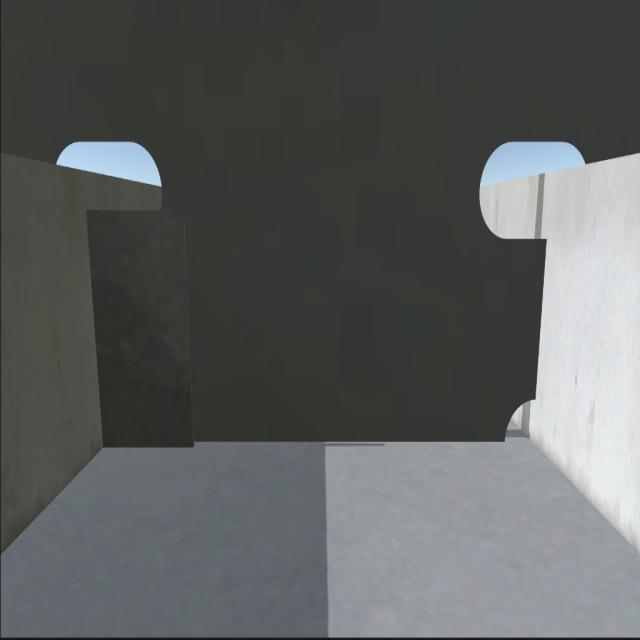fillet_hole: (498, 394, 535, 448)
fillet_yong_jeop_jang: (109, 439, 506, 447)
longi_yong_jeop_jang: (87, 213, 112, 445), (534, 250, 555, 396)
plate_CP01: (94, 211, 187, 442)
